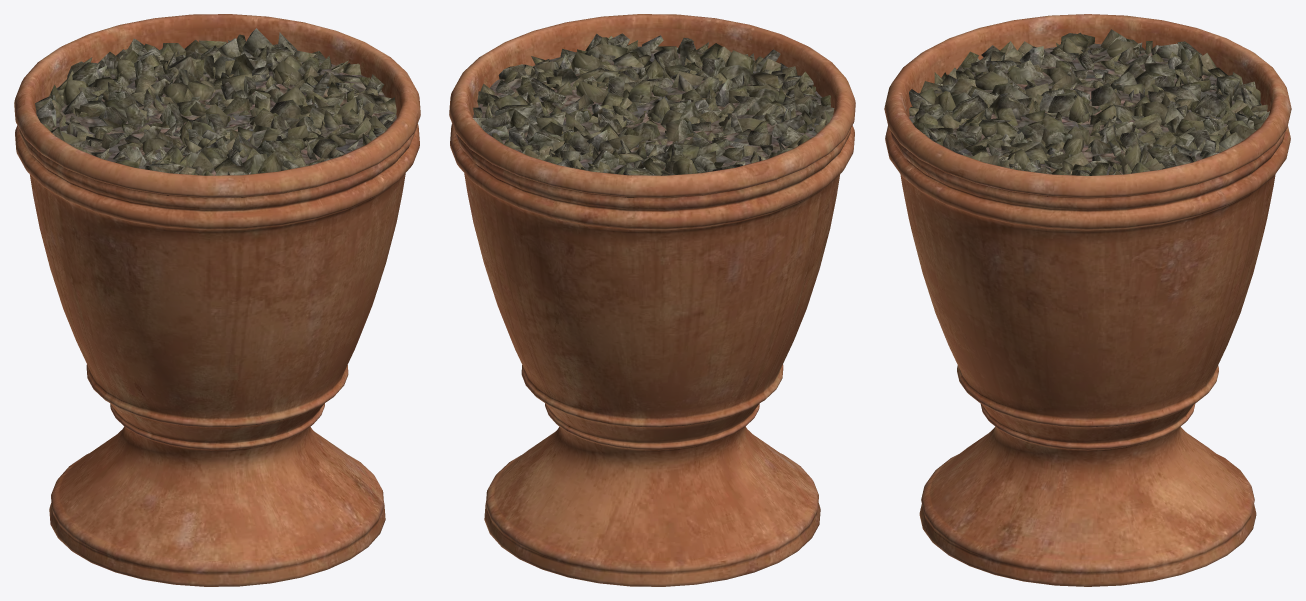
File: urn-planter.glb
3 renders of one model, left to right at view 1: azimuth 30°, elevation 25°; view 2: azimuth 150°, elevation 25°; view 3: azimuth 270°, elevation 25°, orthographic.
Parts seen in each view (by area): view 1: potted_plant_01_pot, potted_plant_01_pebbles; view 2: potted_plant_01_pot, potted_plant_01_pebbles; view 3: potted_plant_01_pot, potted_plant_01_pebbles.
Boxes of the visible parts, box(x1,y1,x2,y2) form: potted_plant_01_pot: box(14, 14, 420, 586); potted_plant_01_pebbles: box(35, 28, 396, 175); potted_plant_01_pot: box(449, 14, 855, 586); potted_plant_01_pebbles: box(473, 33, 834, 175); potted_plant_01_pot: box(884, 14, 1291, 586); potted_plant_01_pebbles: box(909, 29, 1269, 175).
Bounding box in the file's own units: 0.4662 × 0.5314 × 0.4662.
Materials: 1 (1 with a texture image).
